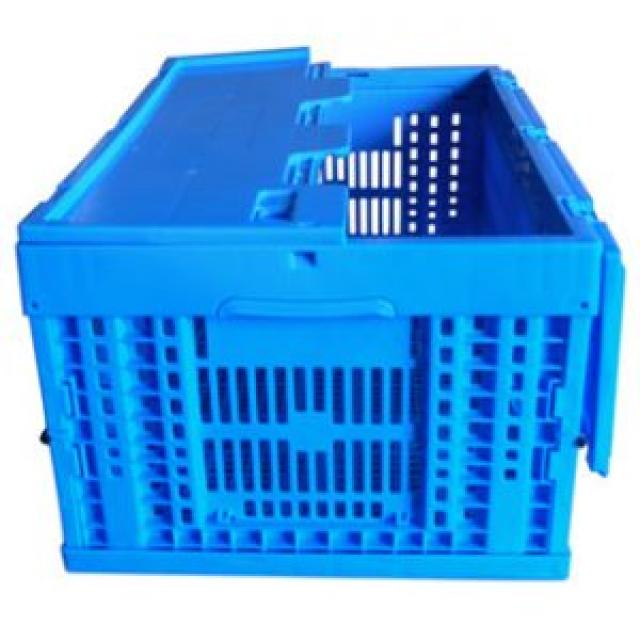basket: (9, 40, 631, 585)
